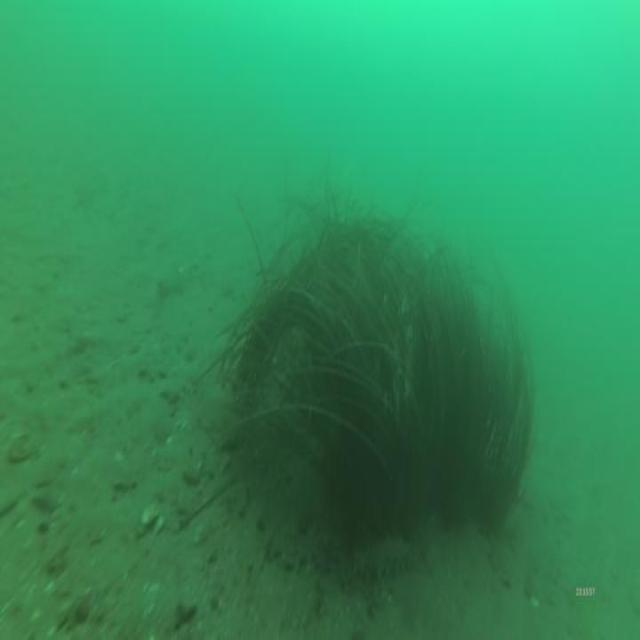holothurian: (351, 531, 416, 586)
waterweeds: (222, 191, 534, 528)
